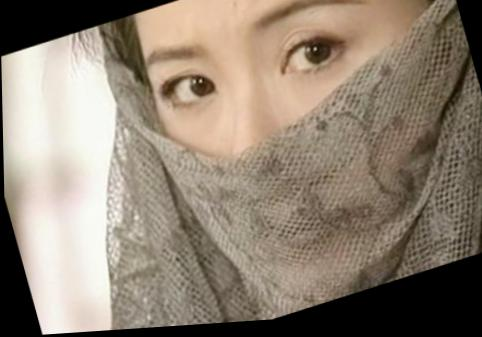WRONG: (128, 1, 472, 330)
